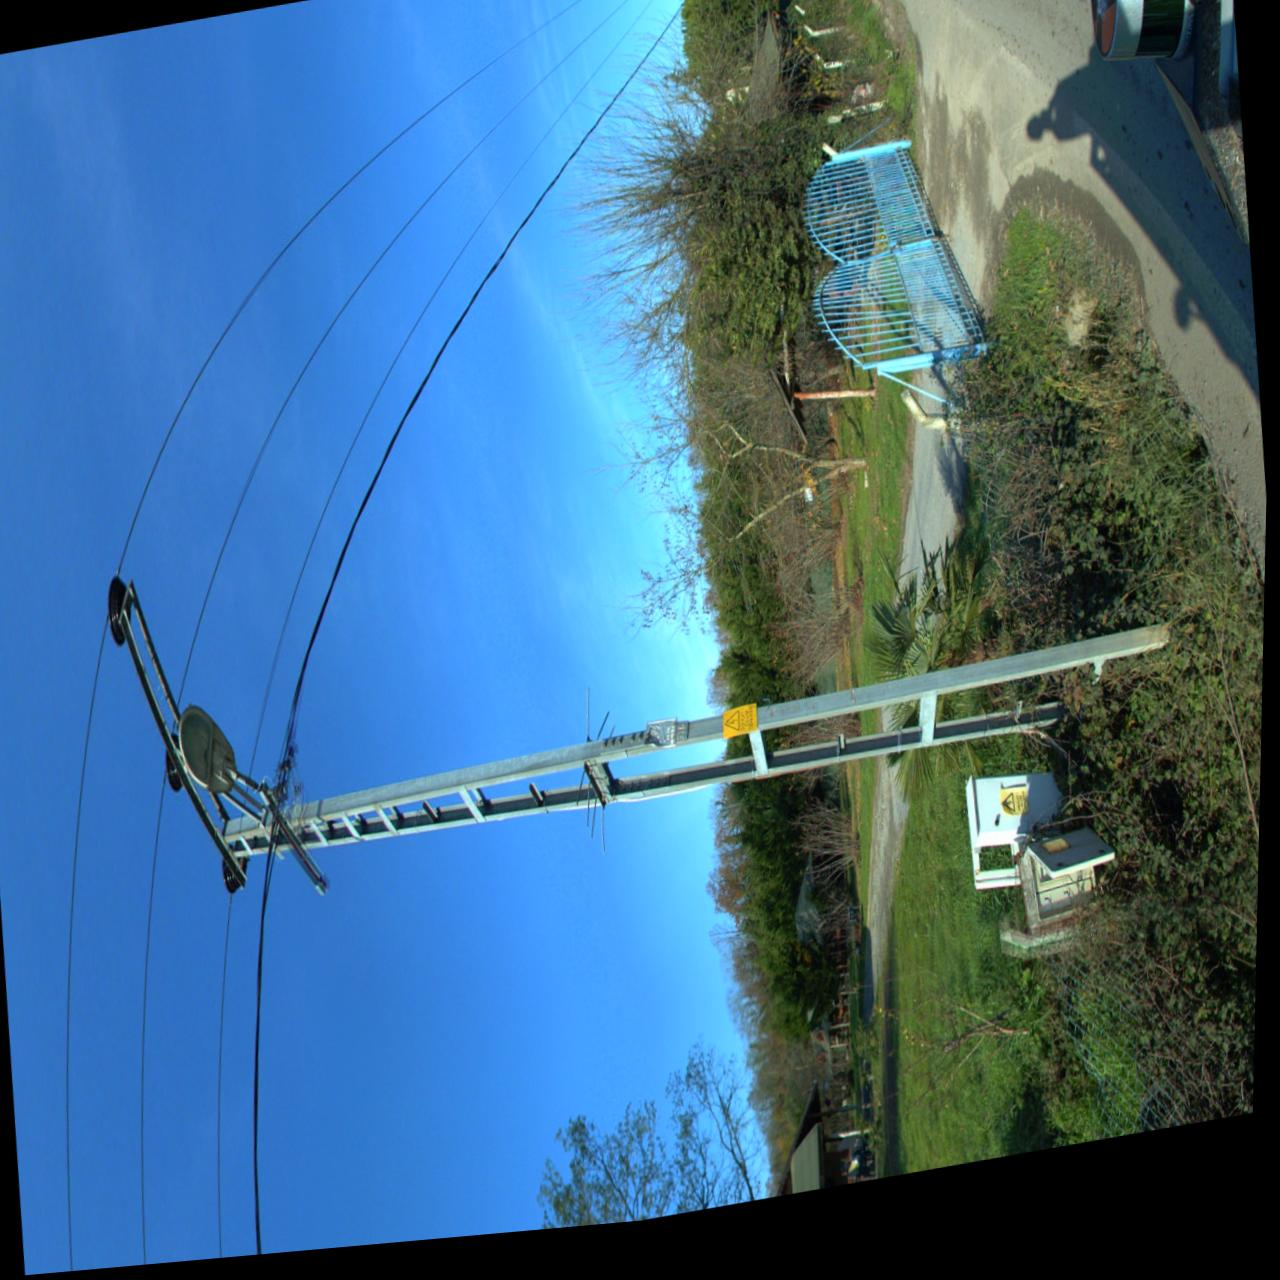Utility Pole Information Plate: (727, 716, 761, 754), (647, 729, 679, 758)
